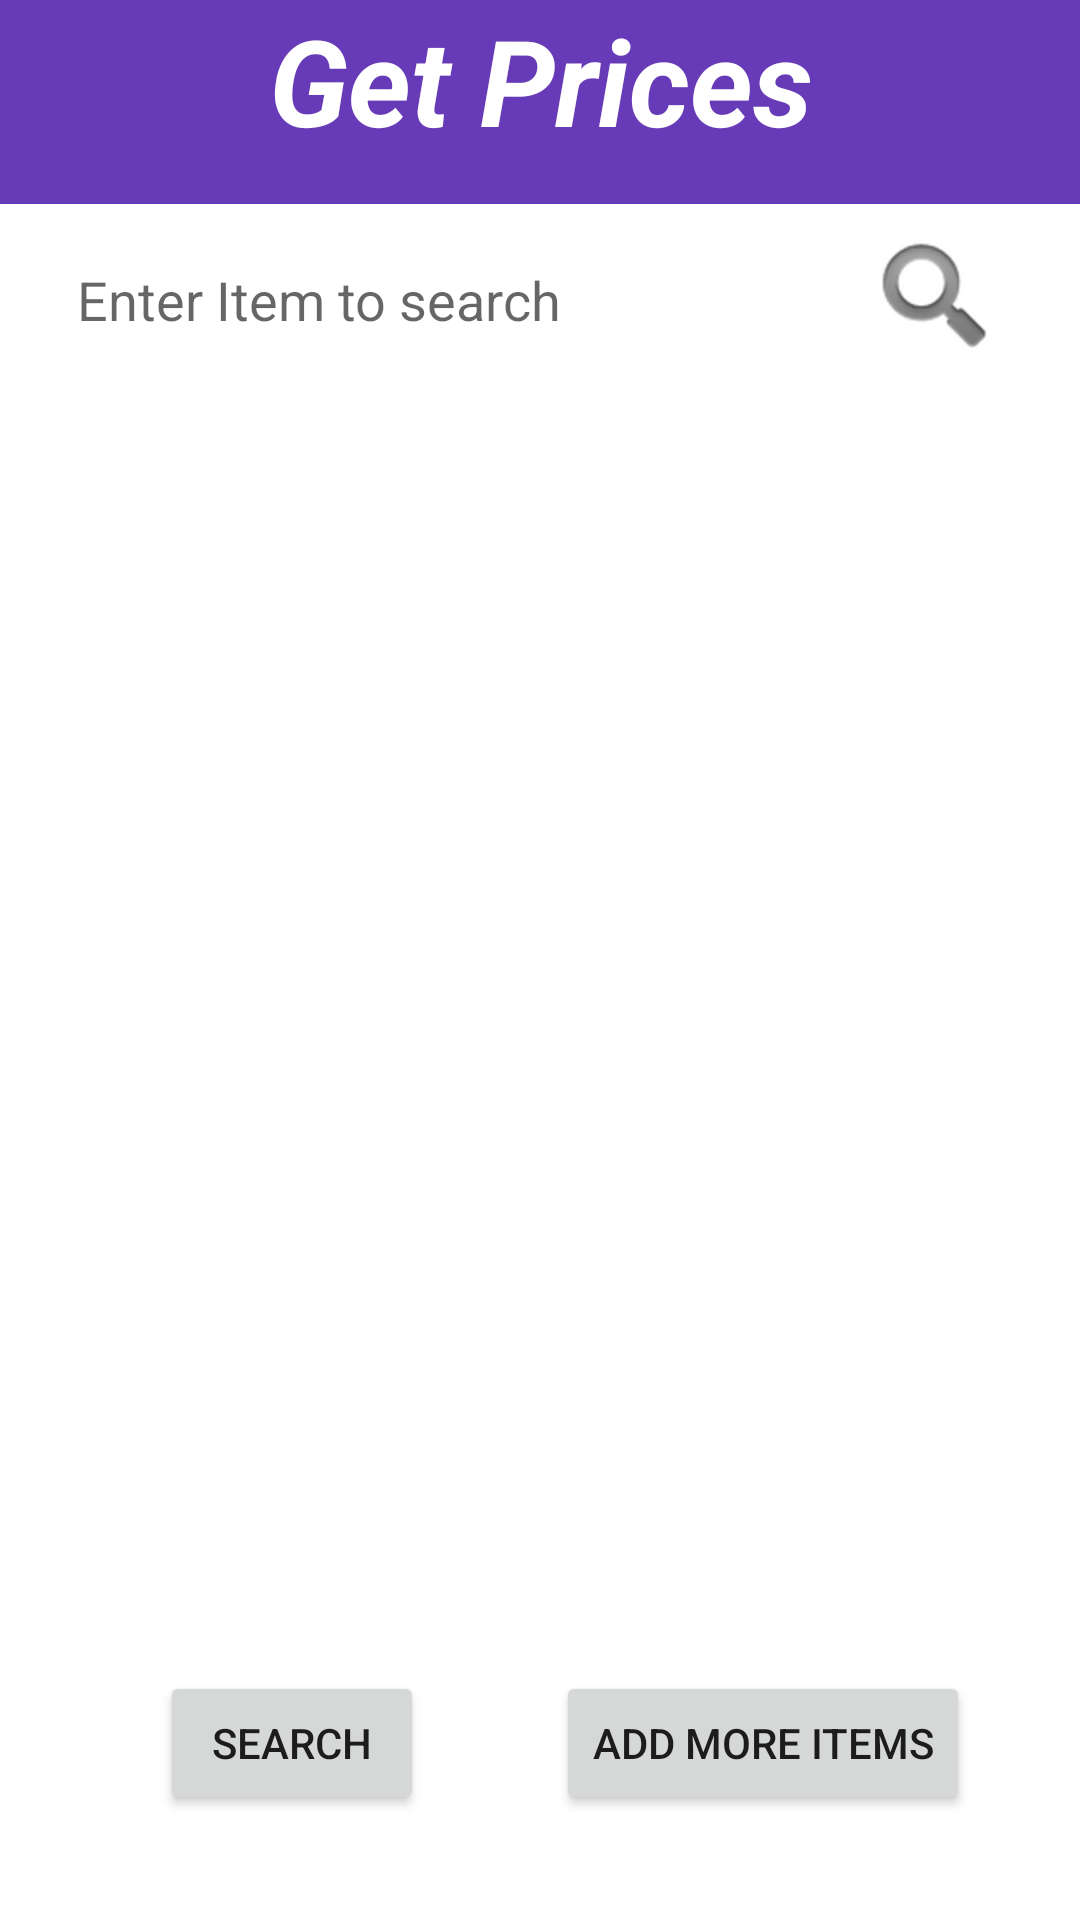

Where icons sit on this 1080*1920 app screen, as bbox(x1, y1, x2, y2):
search category: bbox(882, 243, 986, 347)
